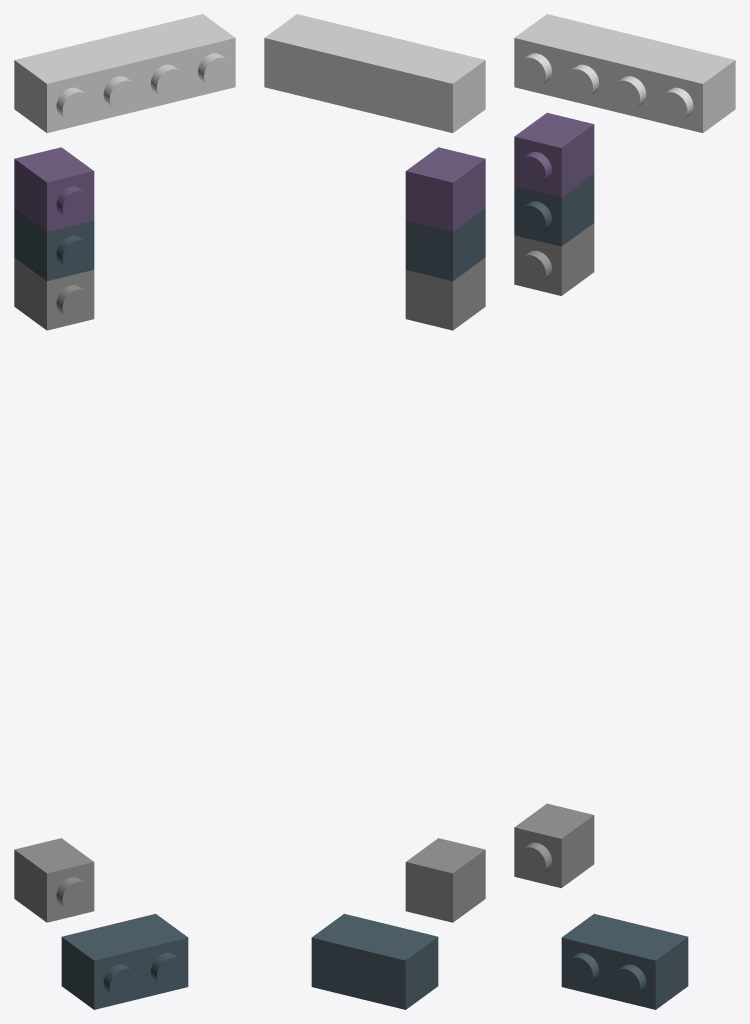
The model's file is current.glb.
The picture shows the model from 3 angles, left to right: view 1: azimuth 30°, elevation 25°; view 2: azimuth 150°, elevation 25°; view 3: azimuth 330°, elevation 25°; orthographic projection.
Visible parts, largest first — view 1: world; view 2: world; view 3: world.
Boxes of the visible parts, bbox=[...] form: world: bbox=[14, 14, 235, 1009]; world: bbox=[264, 14, 485, 1009]; world: bbox=[514, 14, 735, 1009].
Bounding box in the file's own units: 32 × 152 × 11.4.
